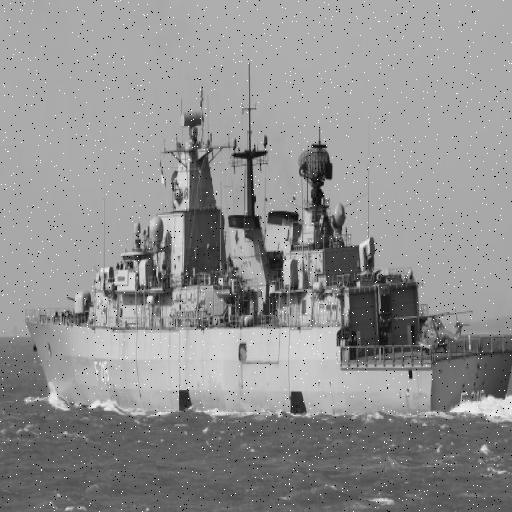Fragata: (19, 63, 512, 425)
